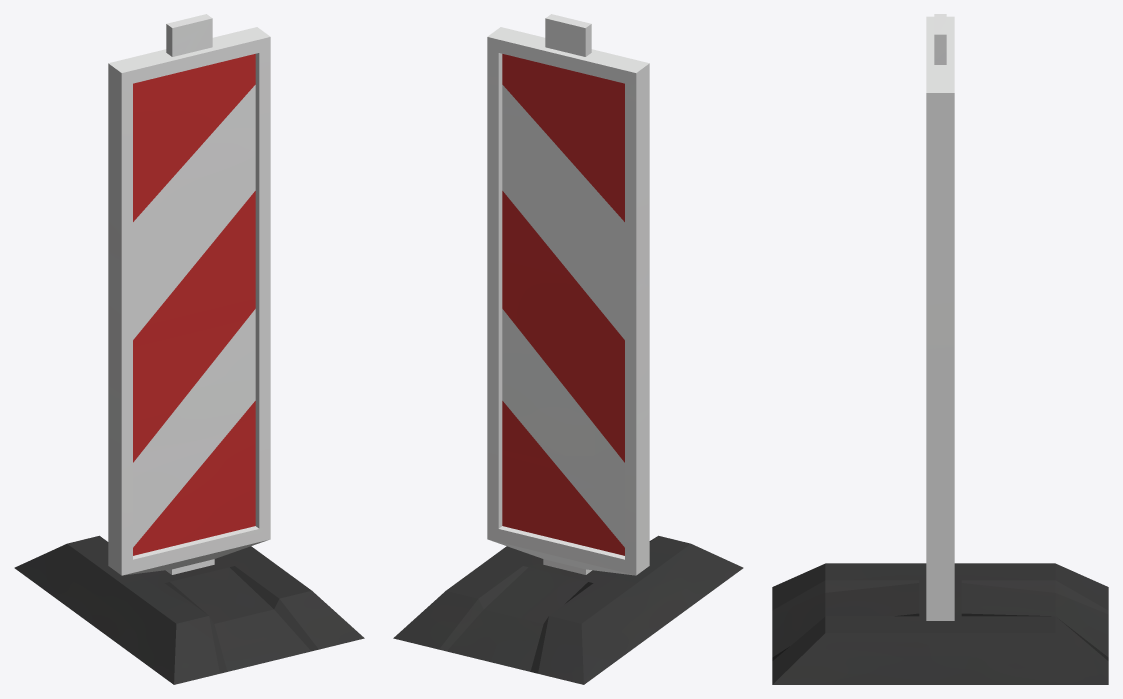
File: Afzetbord.fbx
3 renders of one model, left to right at view 1: azimuth 30°, elevation 25°; view 2: azimuth 150°, elevation 25°; view 3: azimuth 270°, elevation 25°, orthographic. The views are drawn at different scales.
Parts seen in each view (by area): view 1: Cube.003; view 2: Cube.003; view 3: Cube.003.
Part boxes in pixels (bbox=[...]): Cube.003: bbox=[14, 14, 364, 684]; Cube.003: bbox=[393, 14, 743, 684]; Cube.003: bbox=[772, 14, 1108, 684].
Bounding box in the file's own units: 43.3 × 126 × 62.85.
